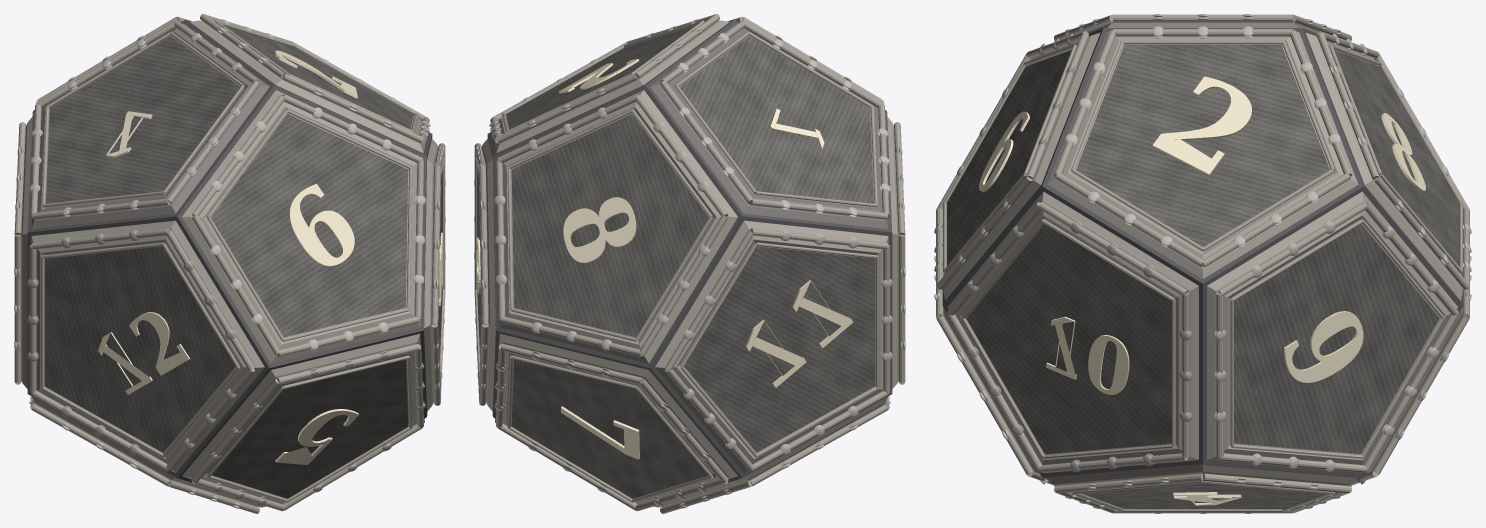
File: knight_armor_d12_restored_numbers.glb
The picture shows the model from 3 angles, left to right: view 1: azimuth 30°, elevation 25°; view 2: azimuth 150°, elevation 25°; view 3: azimuth 270°, elevation 25°; orthographic projection. The views are drawn at different scales.
Parts seen in each view (by area): view 1: AuthenticSteelSurface_6, AuthenticSteelSurface_12, AuthenticSteelSurface_1, AuthenticSteelSurface_5, solid_d12_core, ForgedPentagonalPlate_6, ForgedPentagonalPlate_12, ForgedPentagonalPlate_1, ForgedPentagonalPlate_5, AuthenticSteelSurface_2, RaisedSteelNumeral_6, ForgedPentagonalPlate_2 (+48 smaller); view 2: AuthenticSteelSurface_8, AuthenticSteelSurface_11, AuthenticSteelSurface_1, AuthenticSteelSurface_7, solid_d12_core, ForgedPentagonalPlate_8, ForgedPentagonalPlate_11, ForgedPentagonalPlate_1, ForgedPentagonalPlate_7, AuthenticSteelSurface_2, RaisedSteelNumeral_8, ForgedPentagonalPlate_2 (+48 smaller); view 3: AuthenticSteelSurface_2, AuthenticSteelSurface_10, AuthenticSteelSurface_9, solid_d12_core, ForgedPentagonalPlate_2, ForgedPentagonalPlate_10, ForgedPentagonalPlate_9, AuthenticSteelSurface_6, AuthenticSteelSurface_8, AuthenticSteelSurface_4, RaisedSteelNumeral_2, ForgedPentagonalPlate_8 (+41 smaller).
Boxes of the visible parts, box(x1,y1,x2,y2) form: AuthenticSteelSurface_6: box(211, 114, 408, 337); AuthenticSteelSurface_12: box(45, 246, 235, 452); AuthenticSteelSurface_1: box(46, 36, 240, 203); AuthenticSteelSurface_5: box(212, 359, 408, 498); solid_d12_core: box(27, 20, 432, 482); ForgedPentagonalPlate_6: box(182, 90, 423, 363); ForgedPentagonalPlate_12: box(31, 220, 264, 473); ForgedPentagonalPlate_1: box(31, 23, 269, 228); ForgedPentagonalPlate_5: box(182, 334, 420, 503); AuthenticSteelSurface_2: box(225, 26, 413, 128); RaisedSteelNumeral_6: box(289, 183, 354, 266); ForgedPentagonalPlate_2: box(190, 20, 428, 152); AuthenticSteelSurface_8: box(511, 114, 708, 337); AuthenticSteelSurface_11: box(684, 246, 874, 452); AuthenticSteelSurface_1: box(679, 36, 873, 203); AuthenticSteelSurface_7: box(511, 359, 707, 498); solid_d12_core: box(487, 20, 892, 482); ForgedPentagonalPlate_8: box(496, 90, 737, 363); ForgedPentagonalPlate_11: box(655, 220, 888, 473); ForgedPentagonalPlate_1: box(650, 23, 888, 228); ForgedPentagonalPlate_7: box(499, 334, 737, 503); AuthenticSteelSurface_2: box(506, 26, 694, 128); RaisedSteelNumeral_8: box(563, 197, 636, 262); ForgedPentagonalPlate_2: box(491, 20, 729, 152); AuthenticSteelSurface_2: box(1076, 45, 1329, 246); AuthenticSteelSurface_10: box(966, 224, 1171, 453); AuthenticSteelSurface_9: box(1234, 224, 1439, 453); solid_d12_core: box(942, 28, 1463, 480); ForgedPentagonalPlate_2: box(1047, 32, 1358, 278); ForgedPentagonalPlate_10: box(947, 191, 1198, 473); ForgedPentagonalPlate_9: box(1207, 191, 1458, 473); AuthenticSteelSurface_6: box(947, 50, 1071, 265); AuthenticSteelSurface_8: box(1334, 50, 1458, 265); AuthenticSteelSurface_4: box(1081, 483, 1324, 509); RaisedSteelNumeral_2: box(1152, 76, 1251, 175); ForgedPentagonalPlate_8: box(1305, 32, 1462, 300).
Size of the model in its own units: 3.08 by 3.08 by 3.08.
Materials: 6 (1 with a texture image).
